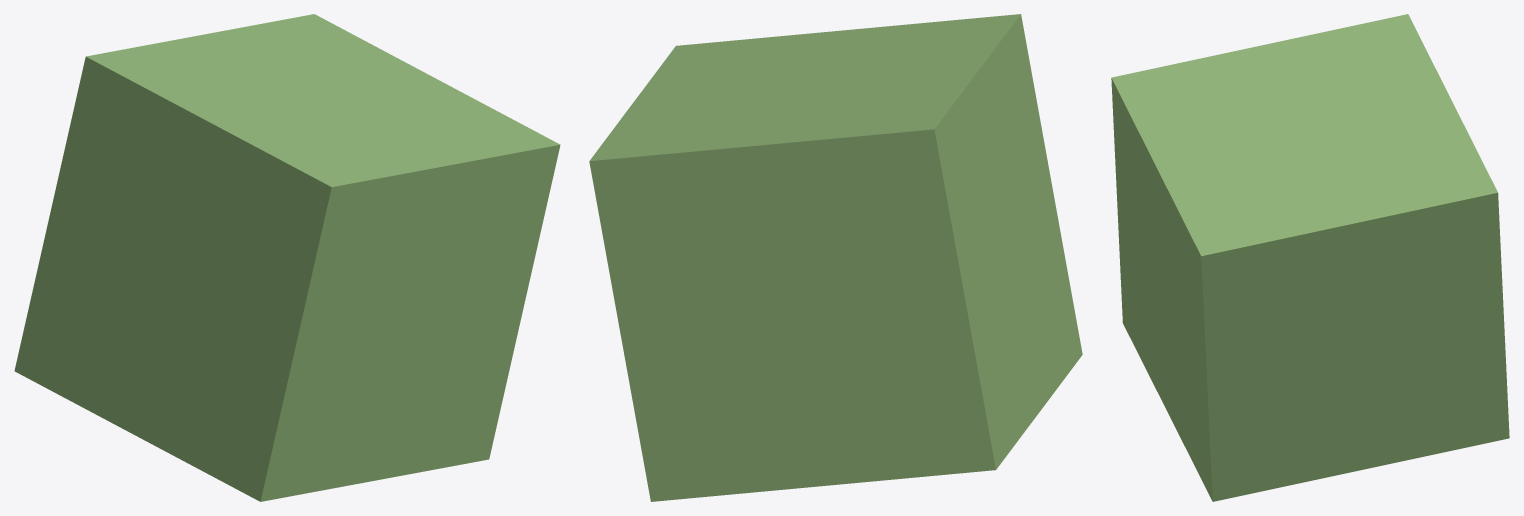
Rendered from operator-import.glb.
3 views of the same model, side by side, from view 1: azimuth 30°, elevation 25°; view 2: azimuth 150°, elevation 25°; view 3: azimuth 270°, elevation 25° (orthographic). The views are drawn at different scales.
Visible parts, largest first — view 1: Imported cube; view 2: Imported cube; view 3: Imported cube.
Part boxes in pixels (bbox=[...]): Imported cube: bbox=[14, 14, 560, 501]; Imported cube: bbox=[589, 14, 1082, 501]; Imported cube: bbox=[1111, 14, 1509, 501].
Size of the model in its own units: 2.86 by 2.54 by 2.57.
